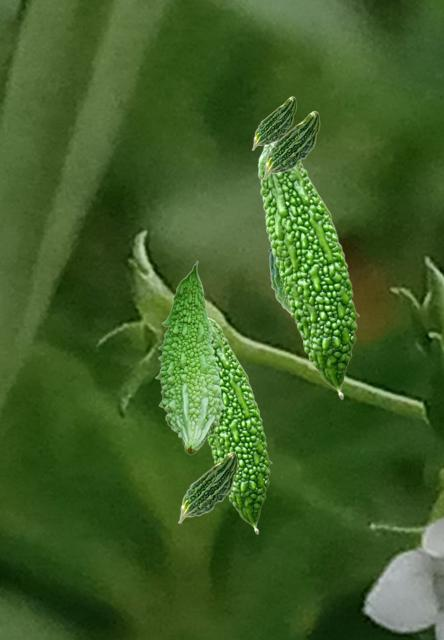ampalaya: (257, 144, 360, 400), (207, 317, 272, 535), (154, 260, 225, 455), (177, 451, 238, 524), (262, 110, 320, 180), (251, 96, 297, 151), (267, 248, 290, 313)
